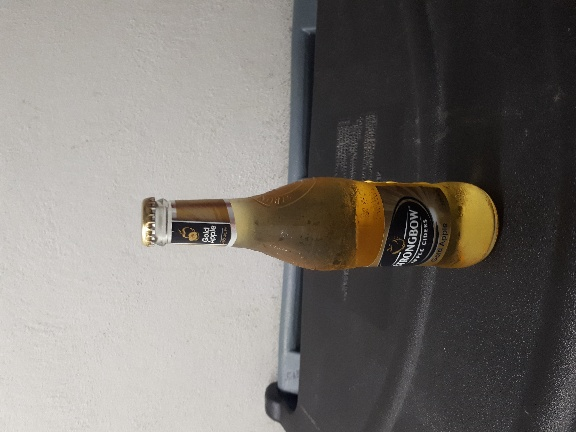SGB: (102, 130, 365, 194)
